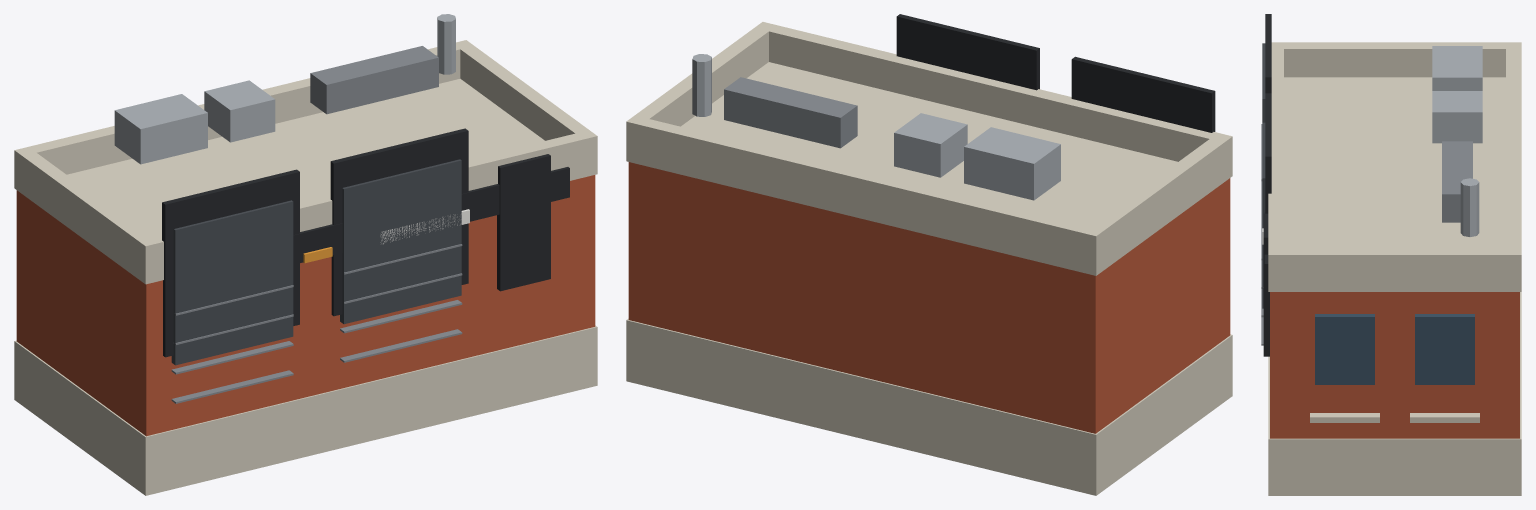
The model's file is building.shop-mechanic.glb.
The picture shows the model from 3 angles, left to right: view 1: azimuth 30°, elevation 25°; view 2: azimuth 150°, elevation 25°; view 3: azimuth 270°, elevation 25°; orthographic projection. The views are drawn at different scales.
Parts seen in each view (by area): view 1: building.shop-mechanic; view 2: building.shop-mechanic; view 3: building.shop-mechanic.
Boxes of the visible parts, x1,y1,x2,y2 form: building.shop-mechanic: [14, 14, 597, 495]; building.shop-mechanic: [626, 14, 1232, 495]; building.shop-mechanic: [1261, 14, 1521, 495].
Size of the model in its own units: 8.19 by 5.15 by 4.16.
